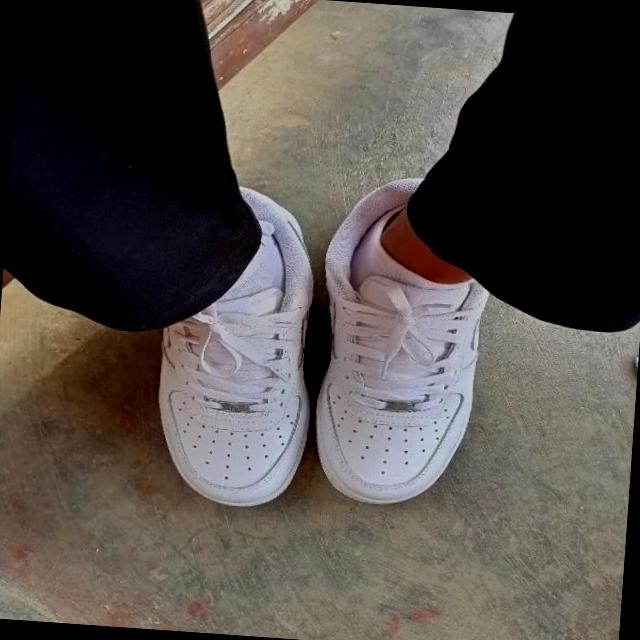nike_fake_airforce: (306, 170, 526, 518), (136, 184, 327, 512)
